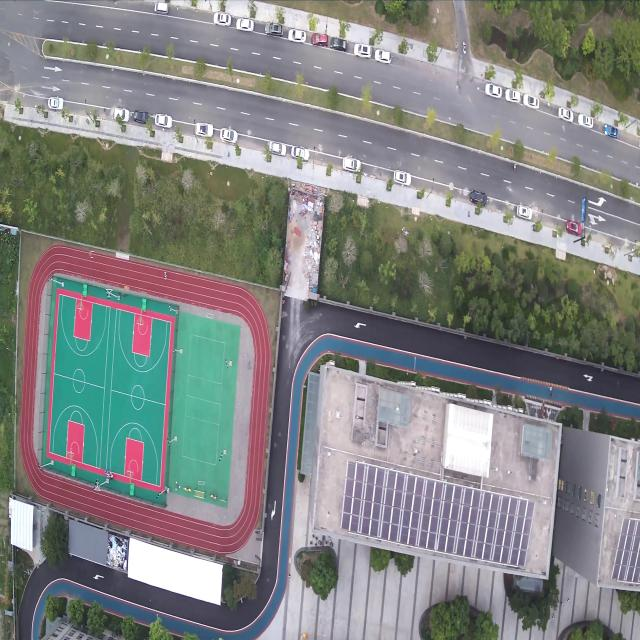drone: (87, 250, 94, 258)
